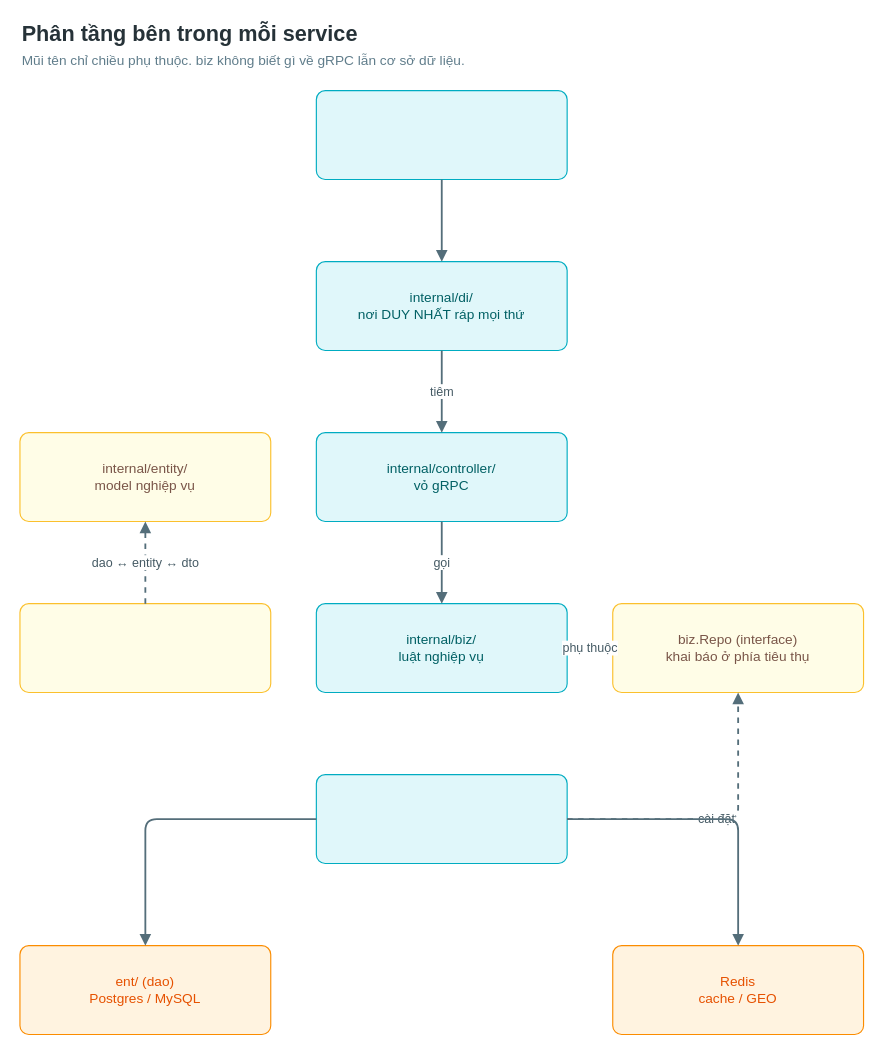
Some shapes in this 884 by 1055 pixel diagram are drawn without their labels. Here are the shapes that lost their labels. From the top down, the box of each, then its label:
(315, 89, 567, 180): cmd/ khởi động + interceptor
(19, 602, 271, 693): internal/mapper/ goverter sinh phần thân
(315, 773, 567, 864): internal/repo/ cài đặt truy cập dữ liệu
